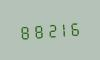eight: (18, 22, 30, 41), (31, 21, 43, 40)
one: (57, 19, 69, 38)
six: (70, 18, 82, 37)
two: (44, 20, 56, 39)
